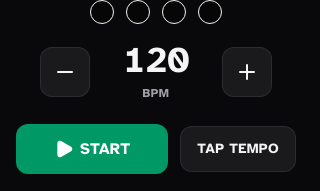
Test: MetronomeWidget › toggles play/stop state when start button is clicked
Click the button with aria-label "Start Metronome" at (92, 149), box [16,124,168,174]
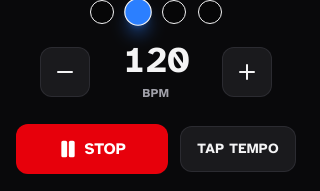
Now the button with aria-label "Stop Metronome" is shown
Stop the metronome
Click the button with aria-label "Stop Metronome" at (92, 149), box [16,124,168,174]
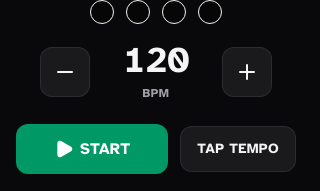
Now the button with aria-label "Start Metronome" is shown, box [16,124,168,174]
